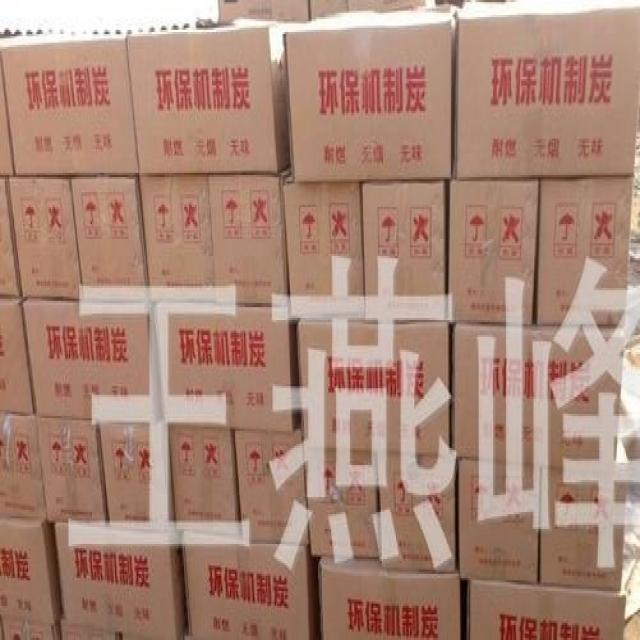box: (453, 2, 639, 177), (286, 13, 452, 179), (451, 322, 623, 476), (126, 26, 293, 177), (294, 322, 450, 454), (155, 303, 296, 429), (23, 303, 160, 418), (537, 175, 634, 329), (52, 529, 185, 638), (180, 535, 318, 636), (447, 179, 539, 324), (316, 555, 460, 638), (281, 179, 364, 320), (363, 181, 446, 320), (459, 457, 544, 585), (539, 469, 626, 589), (207, 175, 287, 305), (138, 173, 215, 301), (462, 580, 626, 640), (376, 448, 457, 567), (72, 175, 148, 299), (9, 175, 84, 299), (234, 429, 309, 544), (303, 442, 378, 555), (96, 425, 174, 531), (167, 425, 240, 535), (34, 416, 106, 525), (1, 514, 61, 623), (1, 412, 49, 525), (3, 297, 36, 420), (3, 179, 23, 297), (0, 66, 14, 175)
